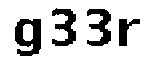3: (49, 6, 78, 49), (85, 7, 114, 49)
g: (12, 15, 43, 59)
r: (116, 16, 143, 50)
